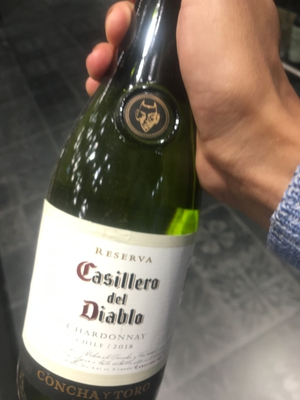casillero del diablo chardonnay: (20, 42, 200, 400)
